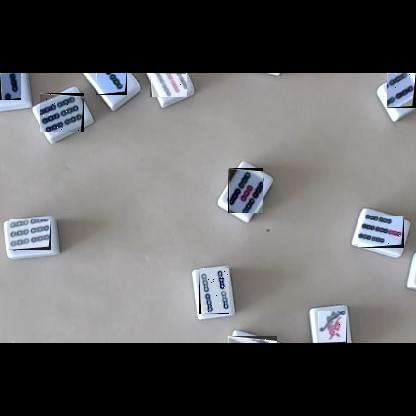1s: (318, 311, 347, 343)
2s: (96, 73, 127, 95)
3s: (0, 73, 21, 100)
4s: (199, 268, 229, 314), (387, 73, 416, 108)
5s: (228, 168, 263, 213)
6s: (40, 93, 84, 132), (9, 219, 51, 250)
7s: (358, 216, 404, 248)
9s: (150, 73, 187, 97), (228, 336, 277, 343)
